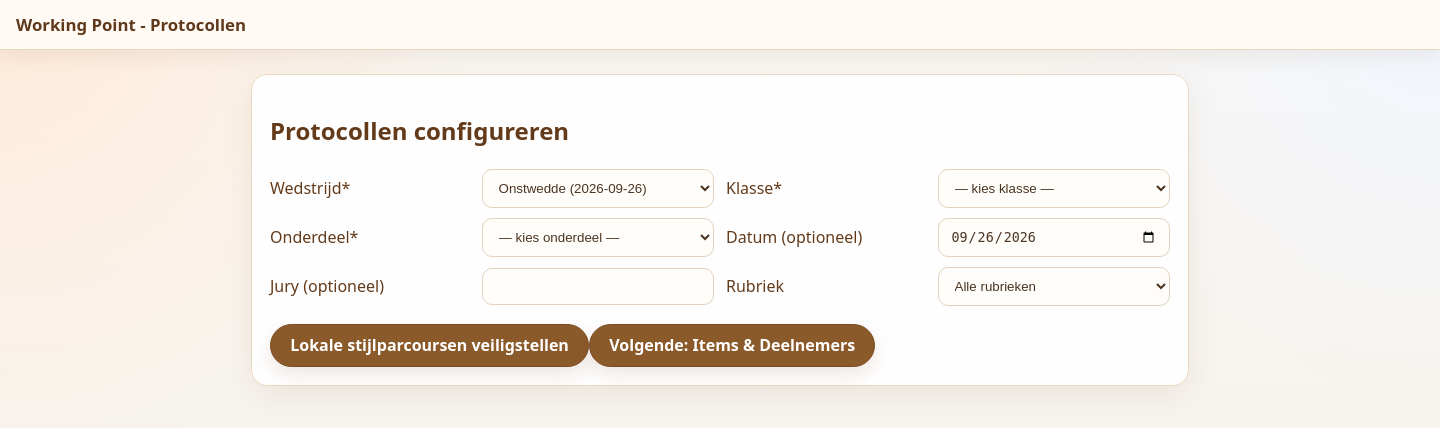
recovers all local courses without overwriting a central course
Click the button "Lokale stijlparcoursen veiligstellen" at (430, 345), box [270,324,589,367]
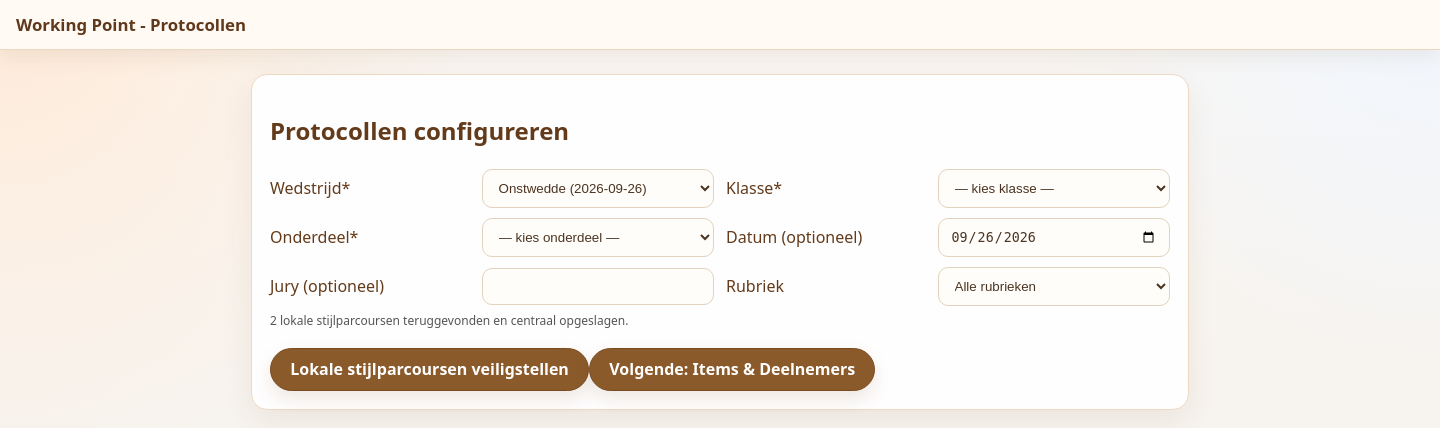
Check: the text "2 lokale stijlparcoursen teruggevonden en centraal opgeslagen" is shown, box [270,312,628,329]
